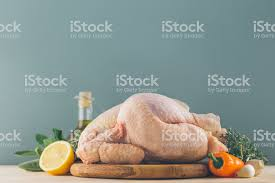Chicken: (81, 100, 215, 159)
